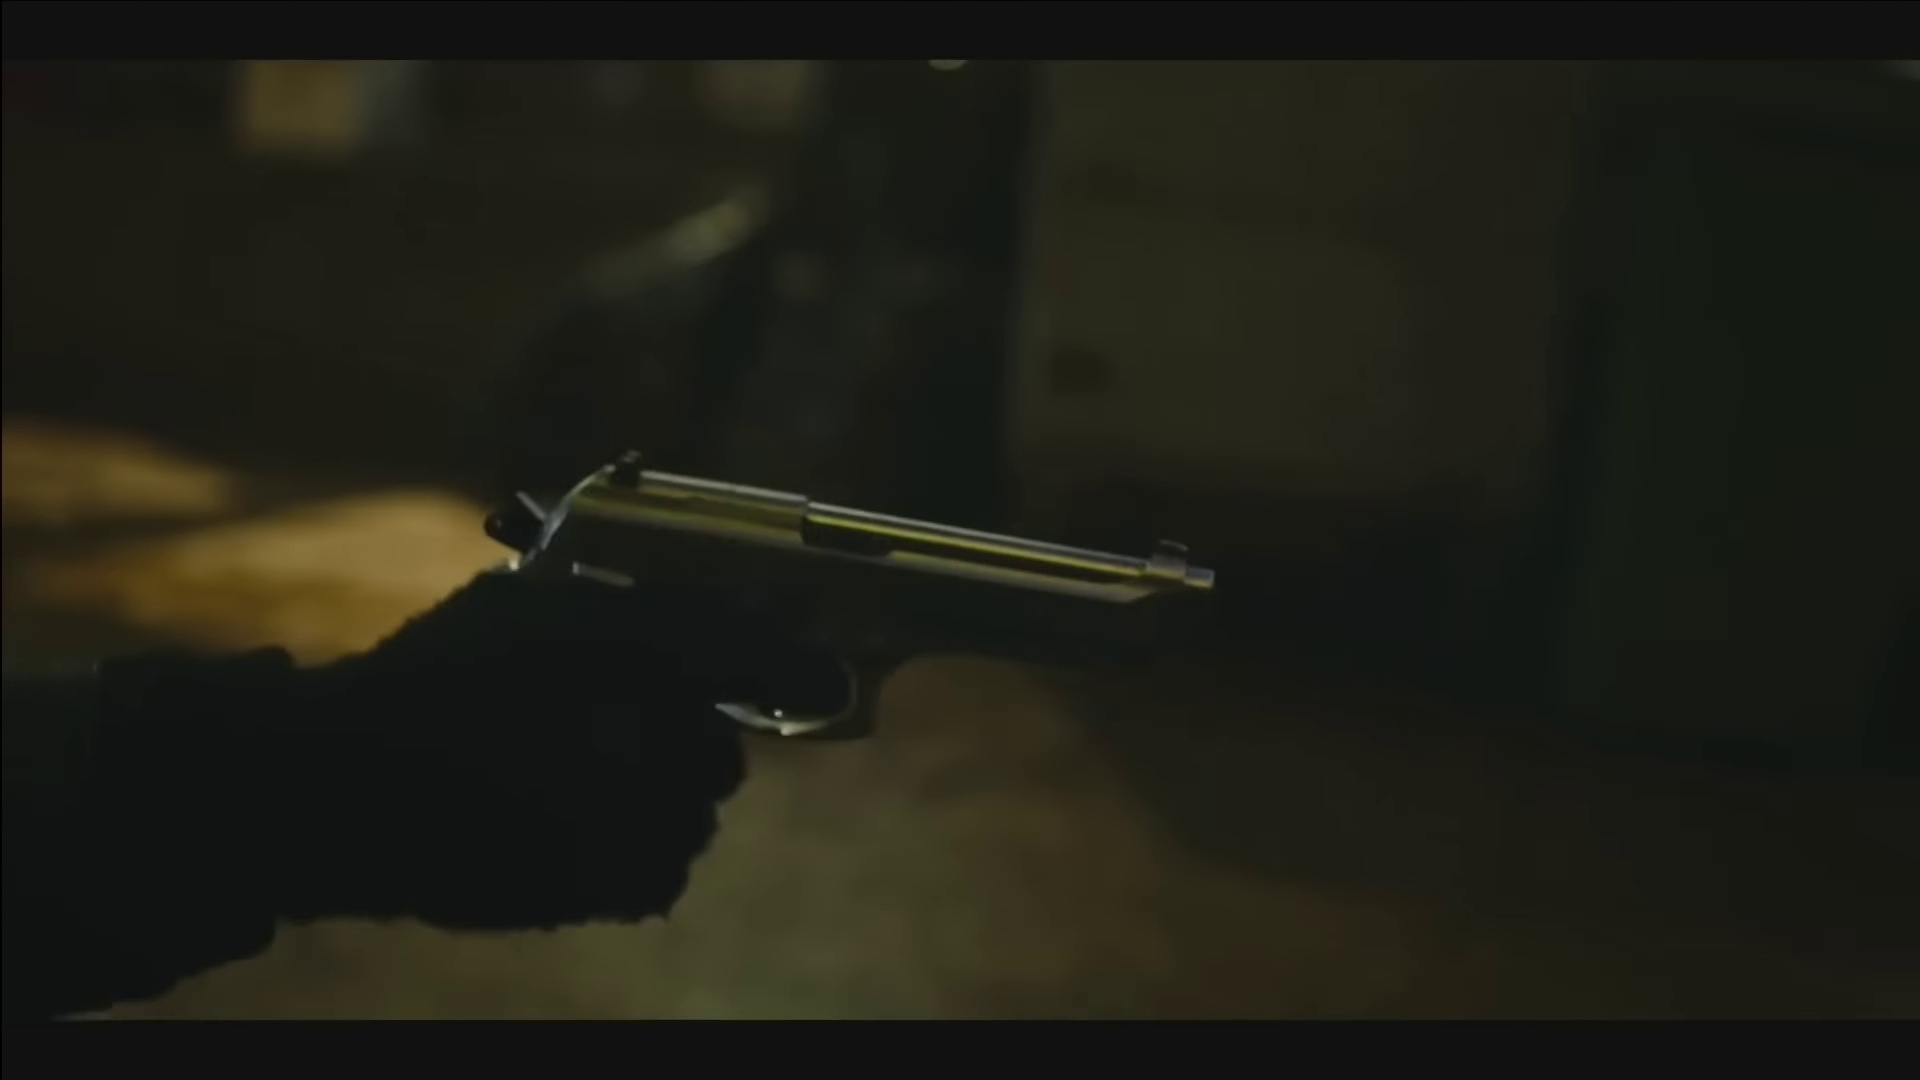gun: (469, 452, 1234, 758)
p_w_gun: (9, 448, 1246, 1035)
